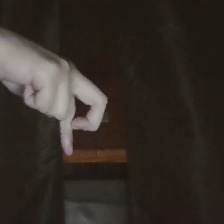P: (1, 19, 114, 164)
